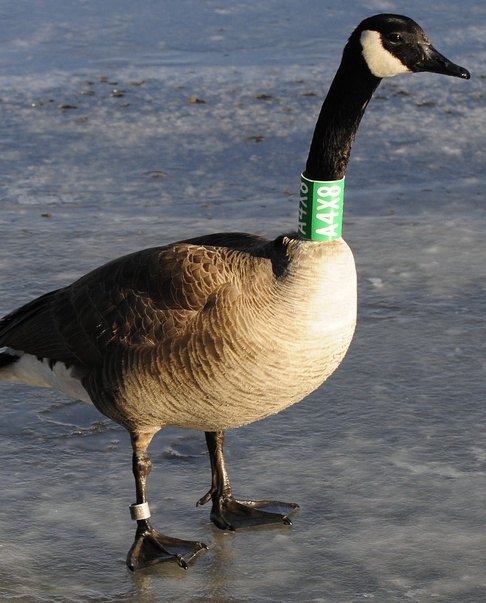goose: (3, 9, 472, 579)
